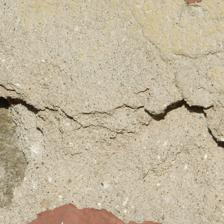Crack: (73, 21, 149, 92), (47, 83, 113, 143)
